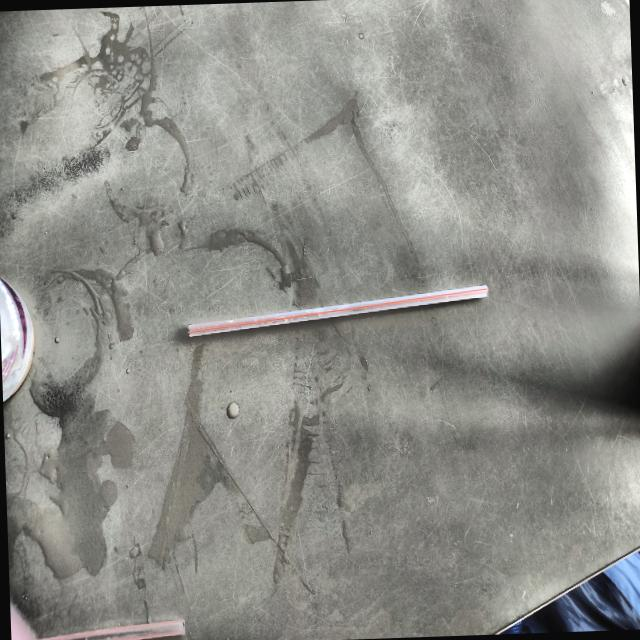plastic straw: (188, 284, 488, 336)
